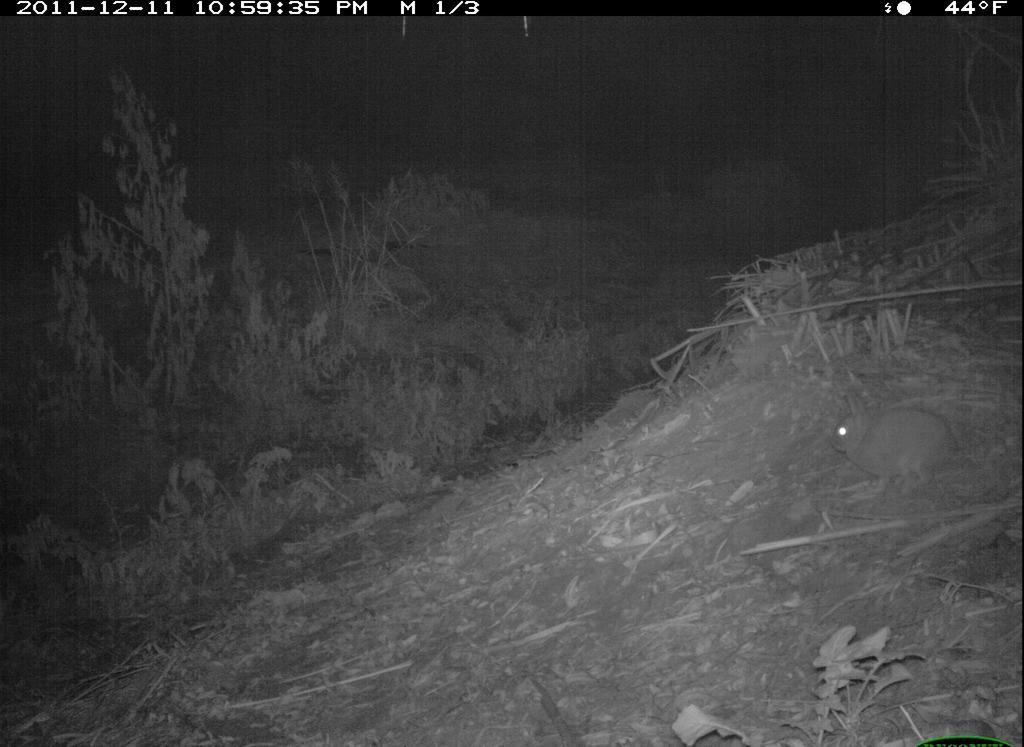rabbit: (822, 377, 978, 509)
